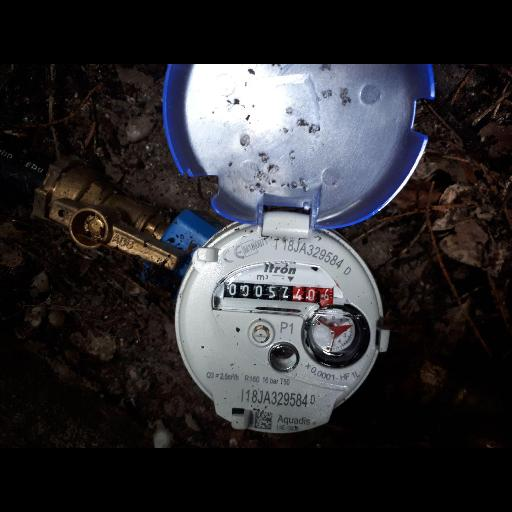0: (224, 282, 241, 298), (306, 287, 321, 304), (239, 283, 253, 299), (253, 284, 267, 300)
4: (291, 286, 307, 303)
5: (266, 284, 280, 300)
6: (319, 287, 334, 307)
7: (279, 285, 293, 301)
border_water_meter_number: (220, 278, 337, 310)
